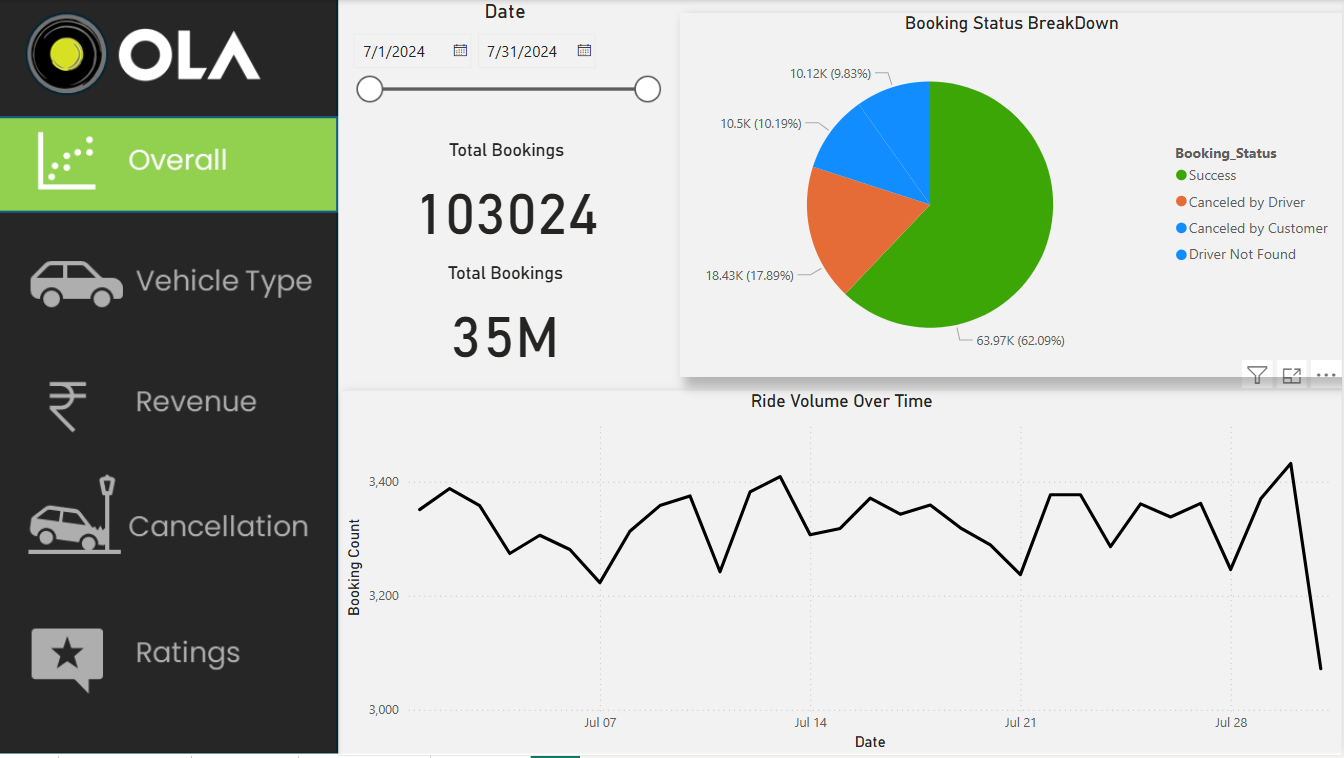

Layout of this report page (visuals, bound fields, positions):
{"tool":"powerbi","page":{"name":"Overall","canvas":[1280,720],"ordinal":0},"visuals":[{"type":"actionButton","box":[20.2,226.2,291.7,85.7],"z":0},{"type":"actionButton","box":[20.2,347.6,291.7,71.4],"z":1000},{"type":"actionButton","box":[20.2,444,291.7,102.4],"z":2000},{"type":"actionButton","box":[20.2,591.7,291.7,78.6],"z":3000},{"type":"lineChart","title":"Ride Volume Over Time","fields":{"Y":["CountNonNull(Ola.Booking_ID)"],"Category":["Ola.Date"]},"box":[325.2,371.9,955.1,348.5],"z":4000},{"type":"pieChart","title":"Booking Status BreakDown","fields":{"Category":["Ola.Booking_Status"],"Y":["CountNonNull(Ola.Booking_Status)"]},"box":[649.1,12.3,631.2,347.2],"z":5000},{"type":"slicer","title":"Date","fields":{"Values":["Ola.Date"]},"box":[325.2,0,314.2,122.1],"z":6000},{"type":"card","title":"Total Bookings","fields":{"Values":["CountNonNull(Ola.Booking_ID)"]},"box":[326.6,131.7,314.2,109.8],"z":7000},{"type":"card","title":"Total Bookings","fields":{"Values":["Sum(Ola.Booking_Value)"]},"box":[325.2,249.7,314.2,109.8],"z":8000}]}

Visuals, with their boxes in screenshot pixels (x1, y1, x2, y2), scaled from the page's 1280x720 canvas onto the 1344x758 screenshot:
actionButton: bbox(21, 238, 327, 328)
actionButton: bbox(21, 366, 327, 441)
actionButton: bbox(21, 467, 327, 575)
actionButton: bbox(21, 623, 327, 706)
"Ride Volume Over Time" lineChart: bbox(341, 392, 1343, 757)
"Booking Status BreakDown" pieChart: bbox(682, 13, 1343, 378)
"Date" slicer: bbox(341, 0, 671, 129)
"Total Bookings" card: bbox(343, 139, 673, 254)
"Total Bookings" card: bbox(341, 263, 671, 378)
